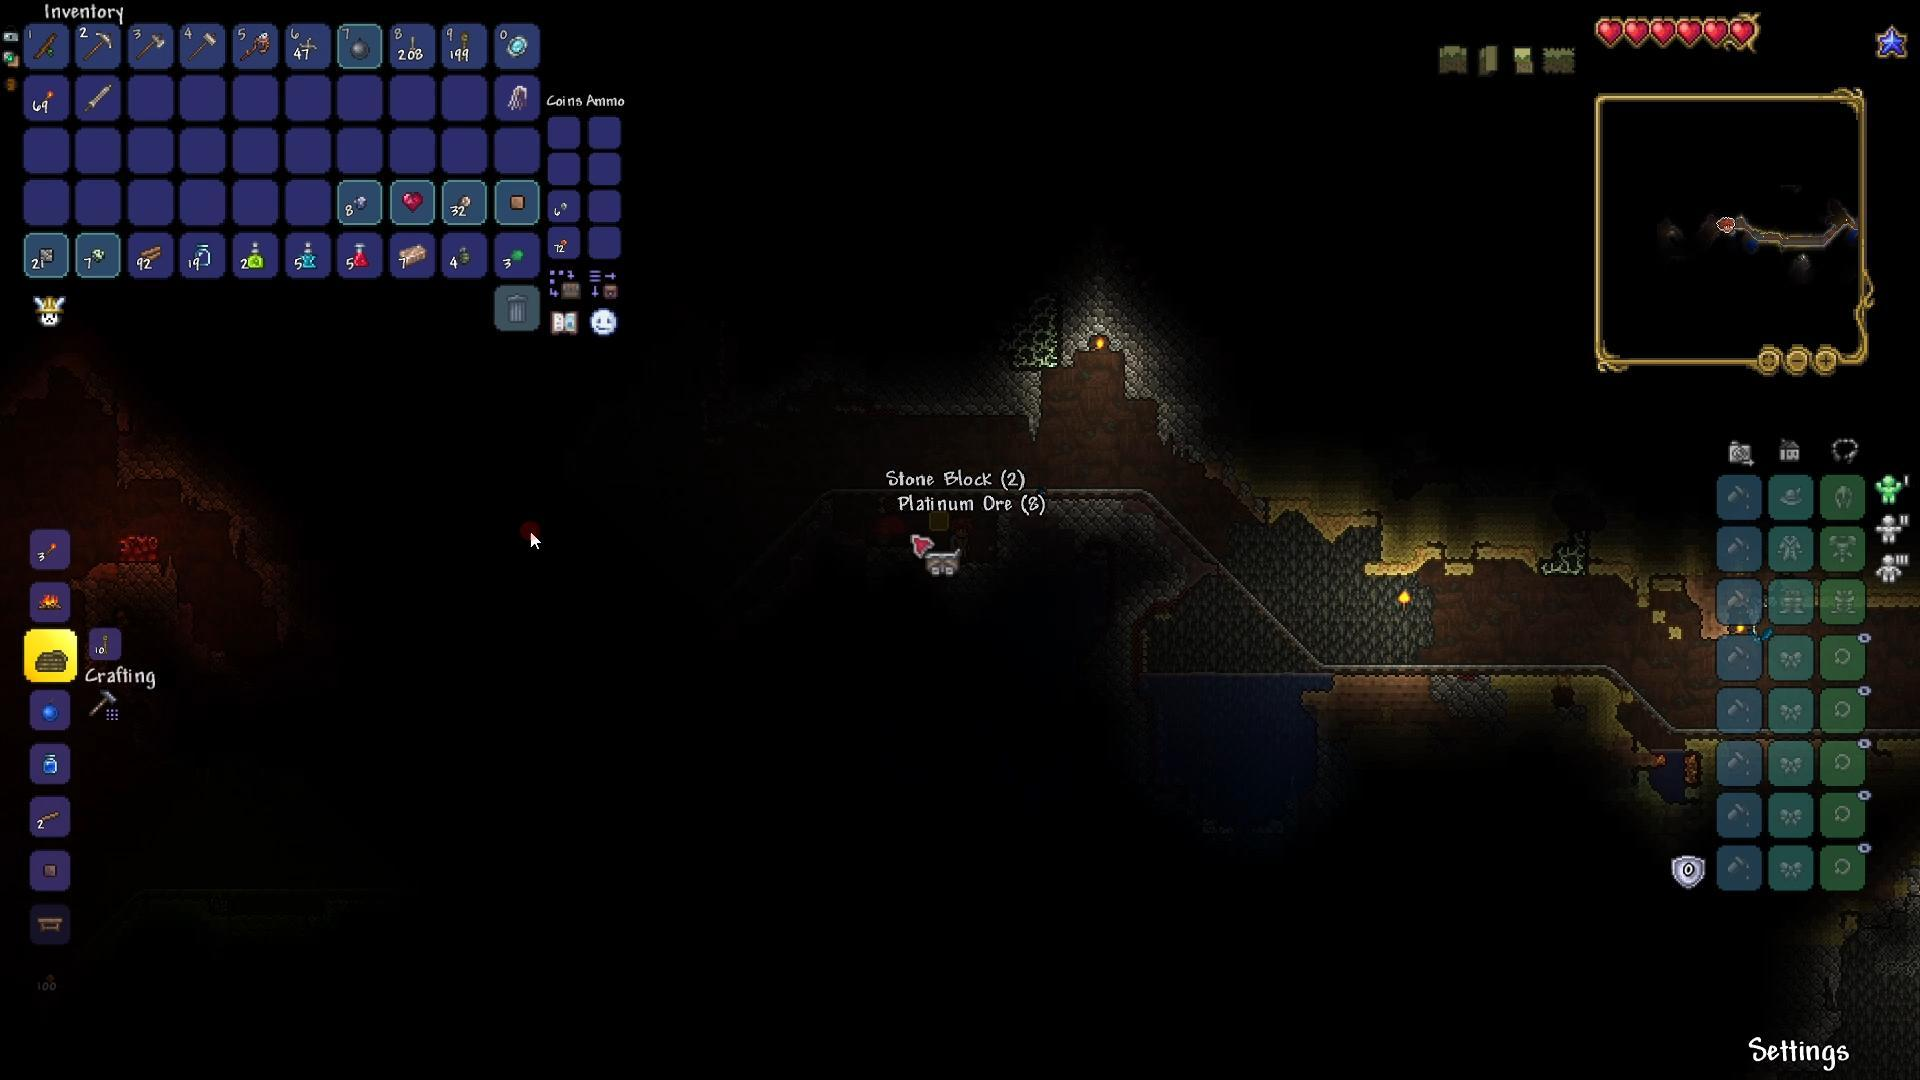sand: (1262, 492, 1383, 539), (1362, 539, 1482, 582), (1489, 667, 1611, 694), (1466, 535, 1542, 574), (1582, 542, 1634, 592)
